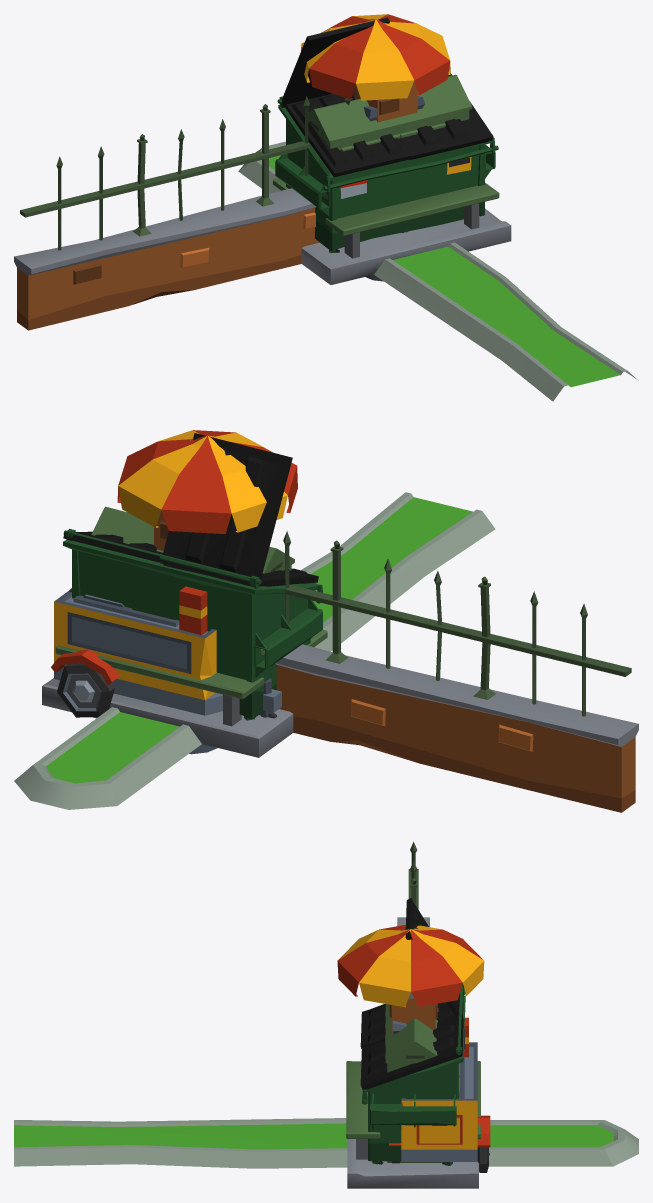
The model's file is Props (1).fbx.
3 views of the same model, one above another, from view 1: azimuth 30°, elevation 25°; view 2: azimuth 150°, elevation 25°; view 3: azimuth 270°, elevation 25° (orthographic). The views are drawn at different scales.
Parts seen in each view (by area): view 1: SM_Env_Fence_01, SM_Env_Street_Divider_01, SM_Prop_Skip_01, SM_Prop_PicnicTable_01, SM_Prop_HotdogStand_01, SM_Prop_Skip_02, SM_Prop_PowerBox_01, SM_Env_Fence_End_01, SM_Env_Street_Divider_02; view 2: SM_Env_Fence_01, SM_Prop_HotdogStand_01, SM_Prop_Skip_01, SM_Prop_Skip_02, SM_Env_Street_Divider_01, SM_Env_Street_Divider_02, SM_Prop_PicnicTable_01, SM_Prop_PowerBox_01; view 3: SM_Env_Street_Divider_01, SM_Prop_HotdogStand_01, SM_Env_Street_Divider_02, SM_Prop_Skip_01, SM_Prop_PicnicTable_01, SM_Prop_Skip_02, SM_Prop_PowerBox_01, SM_Env_Fence_End_01, SM_Env_Fence_01.
Part boxes in pixels (<box>): SM_Env_Fence_01: <box>14,96,350,330</box>; SM_Env_Street_Divider_01: <box>374,242,638,401</box>; SM_Prop_Skip_01: <box>275,17,498,252</box>; SM_Prop_PicnicTable_01: <box>273,178,511,284</box>; SM_Prop_HotdogStand_01: <box>301,14,450,100</box>; SM_Prop_Skip_02: <box>277,89,489,252</box>; SM_Prop_PowerBox_01: <box>304,74,472,151</box>; SM_Env_Fence_End_01: <box>354,81,417,122</box>; SM_Env_Street_Divider_02: <box>238,141,285,193</box>; SM_Env_Fence_01: <box>275,531,638,812</box>; SM_Prop_HotdogStand_01: <box>51,430,297,718</box>; SM_Prop_Skip_01: <box>63,433,322,720</box>; SM_Prop_Skip_02: <box>63,529,318,720</box>; SM_Env_Street_Divider_01: <box>301,492,495,651</box>; SM_Env_Street_Divider_02: <box>14,707,201,809</box>; SM_Prop_PicnicTable_01: <box>42,629,327,757</box>; SM_Prop_PowerBox_01: <box>91,506,294,573</box>; SM_Env_Street_Divider_01: <box>14,1118,347,1168</box>; SM_Prop_HotdogStand_01: <box>337,925,490,1172</box>; SM_Env_Street_Divider_02: <box>489,1120,638,1166</box>; SM_Prop_Skip_01: <box>361,898,465,1165</box>; SM_Prop_PicnicTable_01: <box>346,1061,480,1188</box>; SM_Prop_Skip_02: <box>360,983,465,1165</box>; SM_Prop_PowerBox_01: <box>385,1004,443,1162</box>; SM_Env_Fence_End_01: <box>389,940,437,1032</box>; SM_Env_Fence_01: <box>397,841,429,926</box>.
Bounding box in the file's own units: 3.77 × 2.03 × 4.73.
